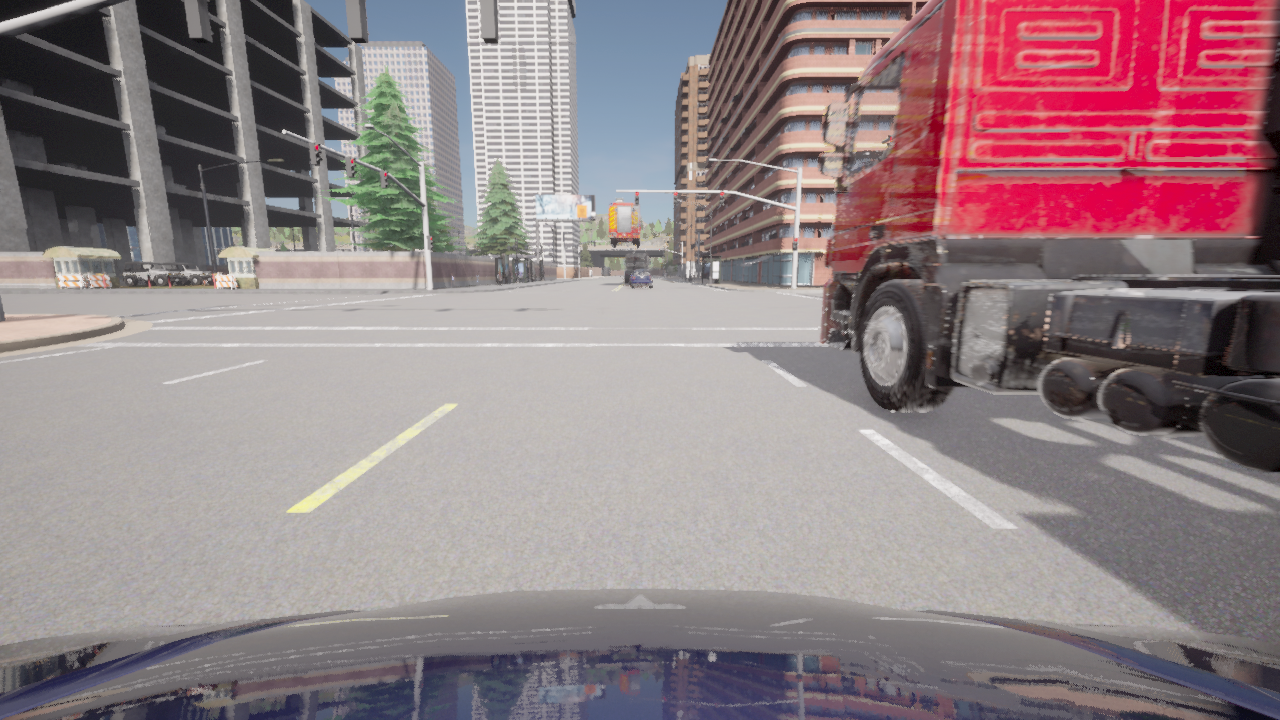cyclist: (819, 0, 1279, 472), (0, 588, 1279, 719), (608, 197, 642, 247), (121, 262, 188, 286), (162, 262, 213, 285), (623, 253, 650, 283), (630, 269, 651, 288), (629, 273, 632, 285), (589, 269, 590, 275), (591, 270, 592, 275), (637, 285, 638, 286)
pedestrian: (475, 272, 480, 287), (451, 273, 455, 288), (496, 271, 500, 285)
